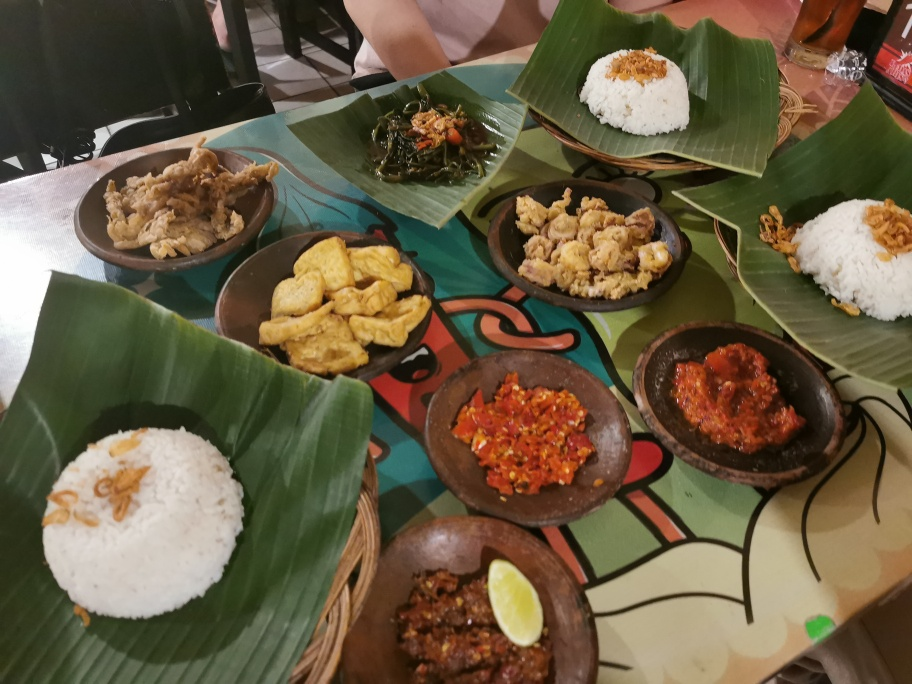nasi putih: (42, 427, 250, 612), (577, 43, 692, 138)
